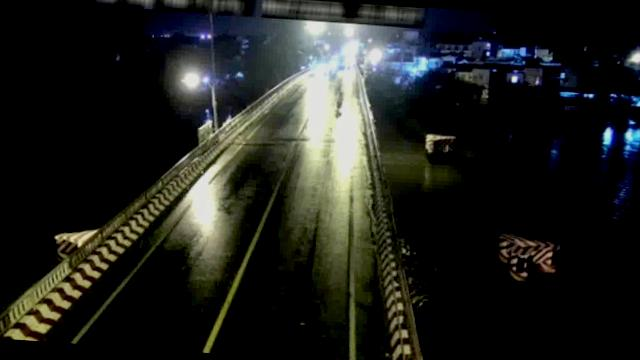Bike: (334, 90, 344, 112)
